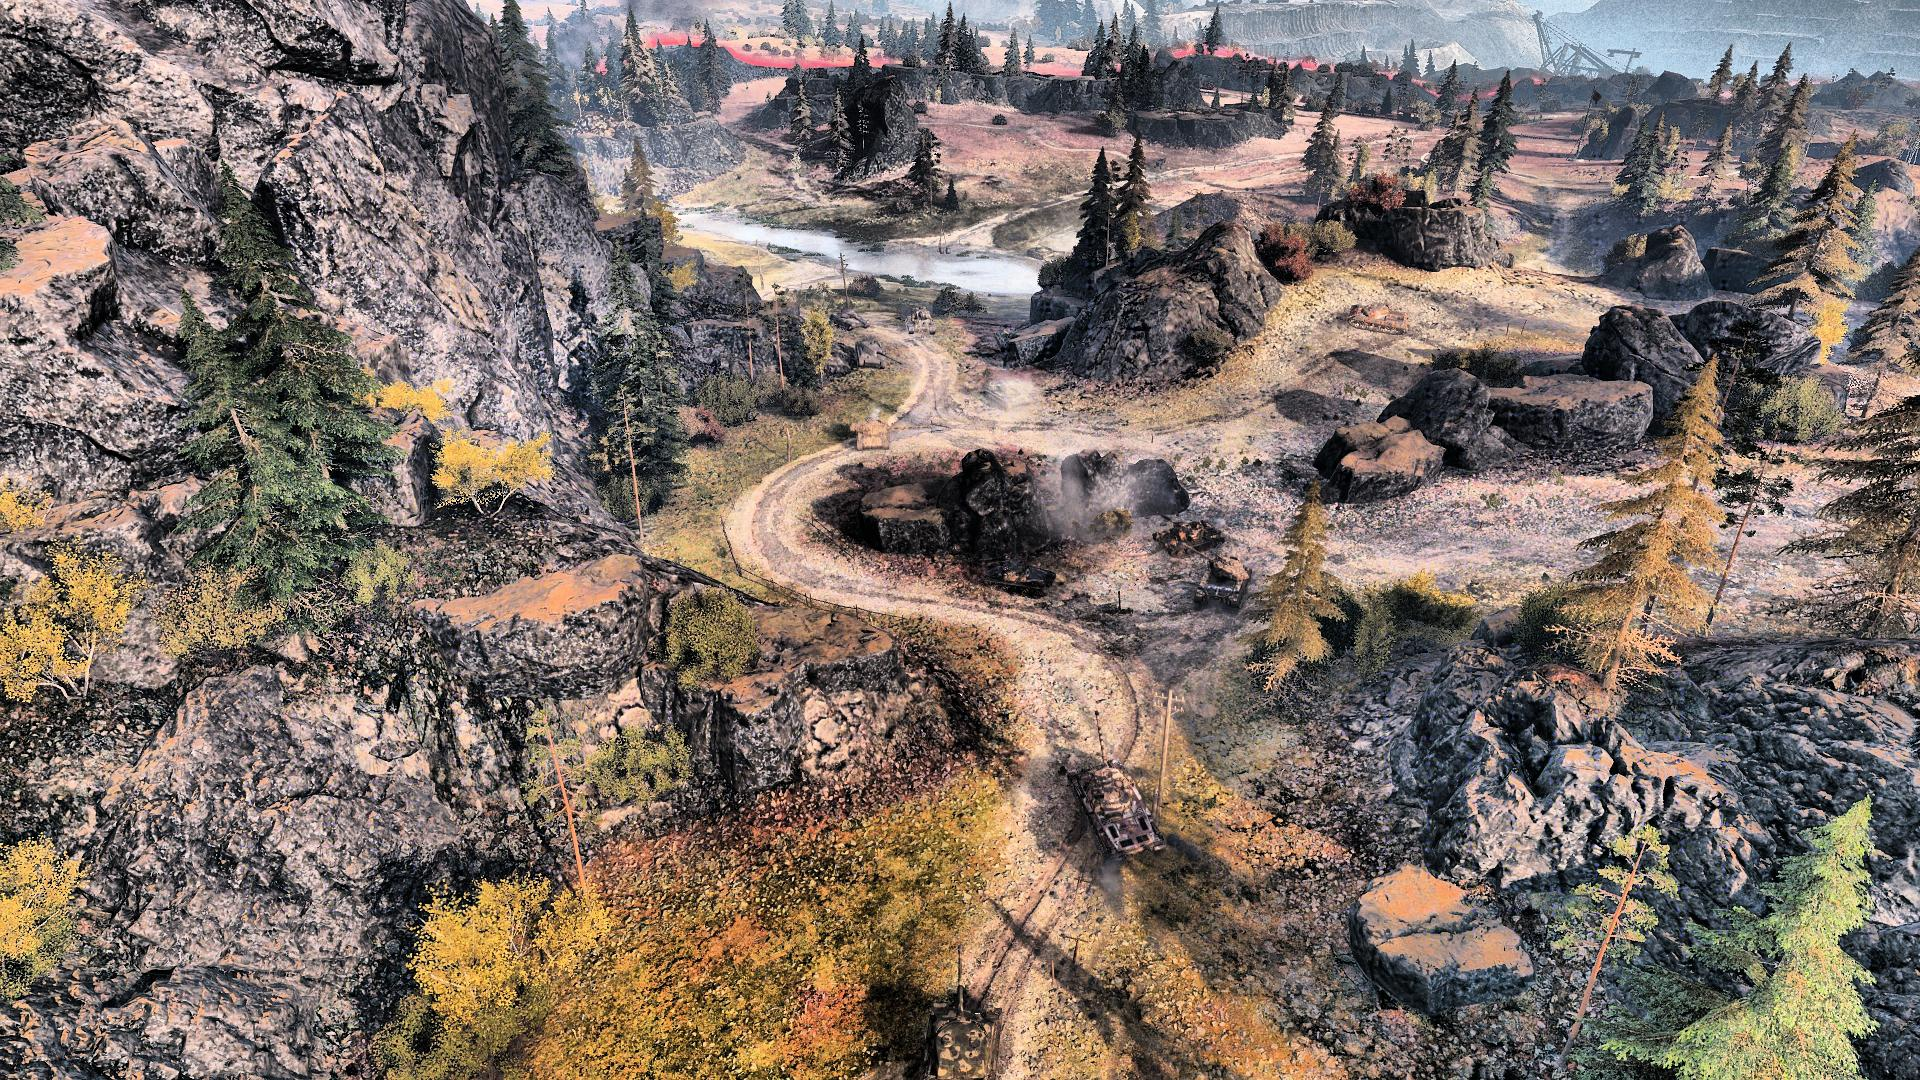military-vehicle: (1069, 712, 1163, 861), (918, 948, 1001, 1080), (848, 413, 935, 450), (827, 310, 870, 331), (905, 305, 936, 334)
